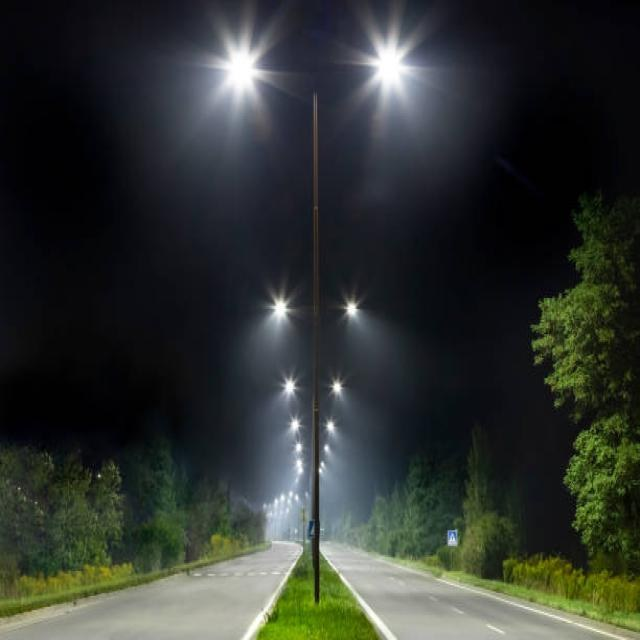acesa: (201, 12, 288, 110), (351, 13, 428, 96), (262, 282, 302, 328), (326, 364, 353, 406), (334, 290, 367, 322), (277, 369, 303, 403)
